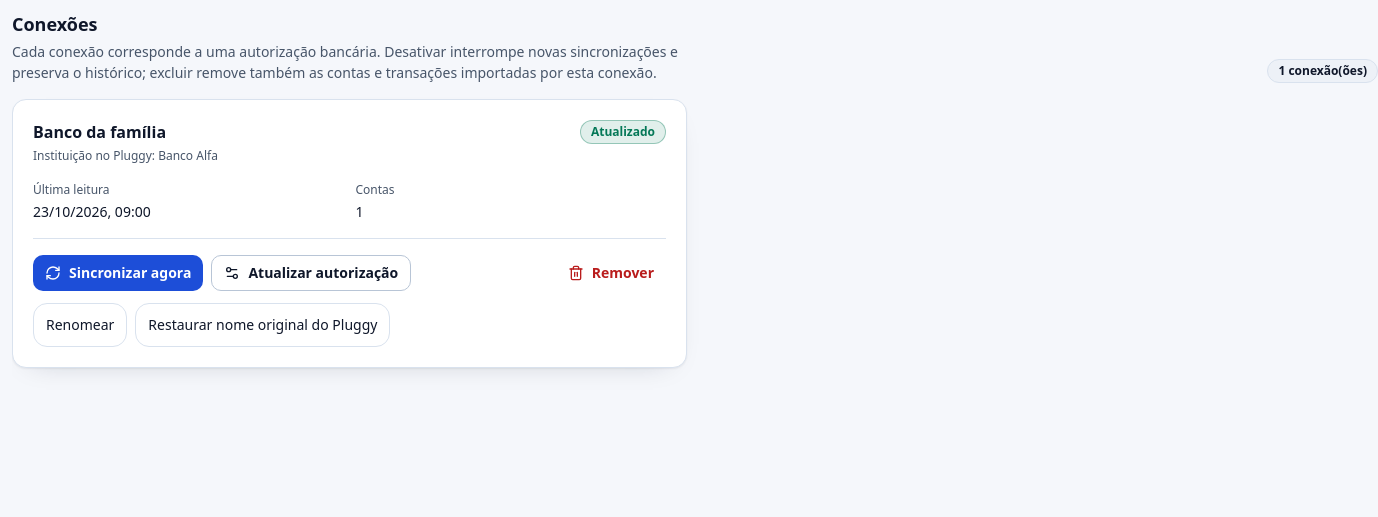
Test case: remoção de conexão › renomeia e restaura o item preservando a instituição original
This screenshot has width=1378, height=517.
Check: the text "Instituição no Pluggy: Banco Alfa" is shown, box [33,147,218,165]
Click the button "Renomear" at (80, 325), box [33,303,127,347]
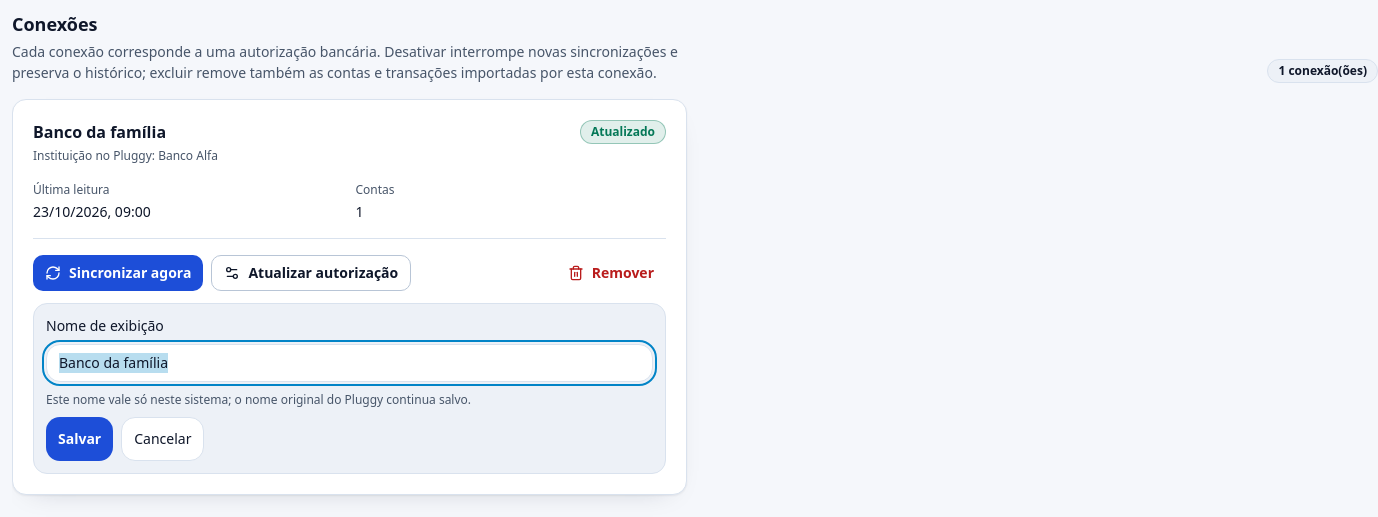
Replace the text in the field labelled "Nome de exibição" with "Banco novo" at (350, 363), box [46,344,653,382]
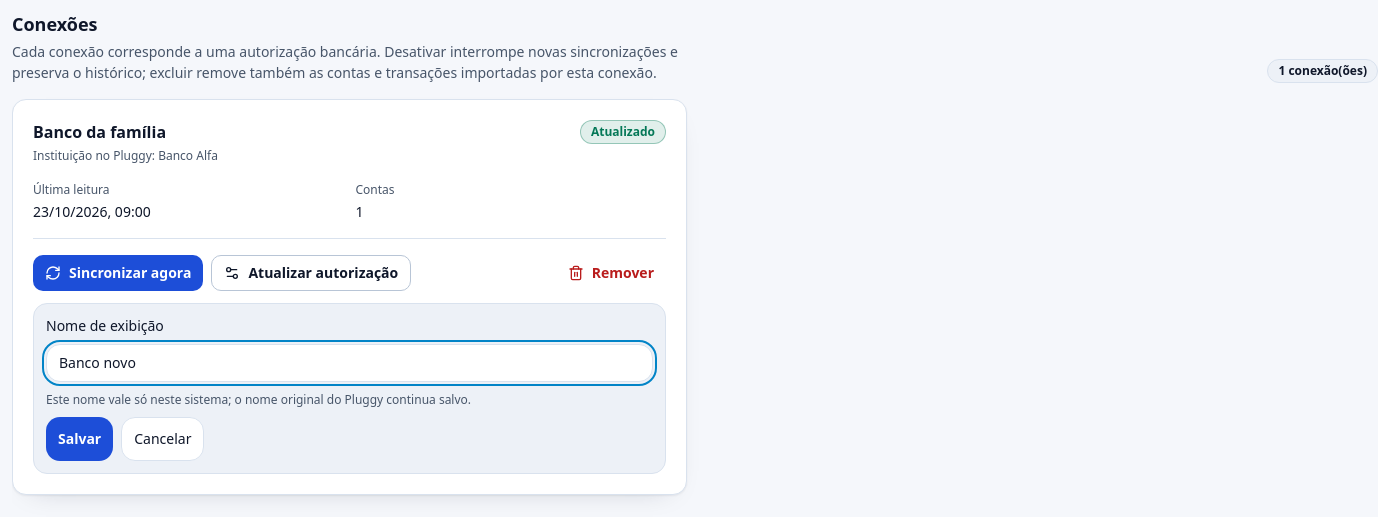
Click the button "Salvar" at (80, 440), box [46,418,113,462]
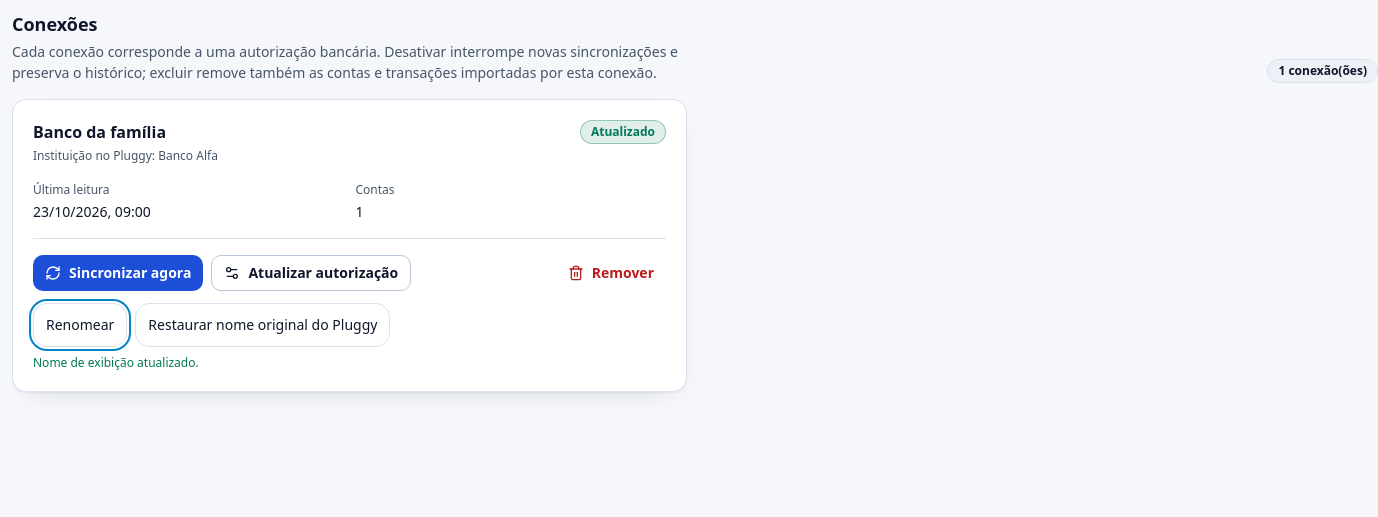
Check: the text "Nome de exibição atualizado." is shown, box [33,354,199,371]
Click the button "Restaurar nome original do Pluggy" at (263, 325), box [135,303,390,347]
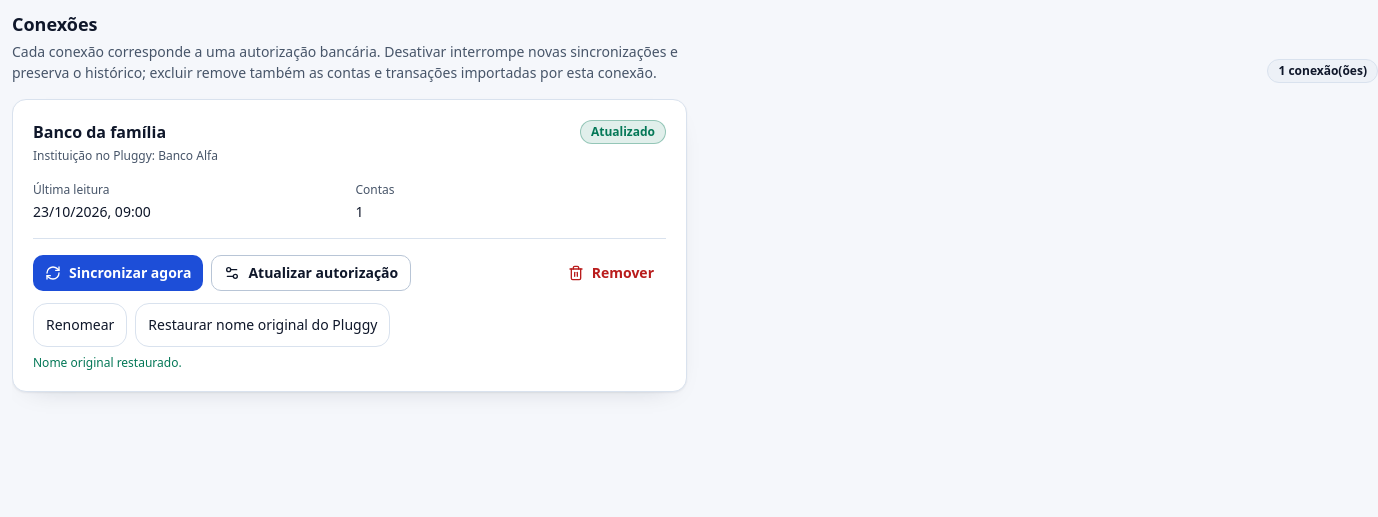
Check: the text "Nome original restaurado." is shown, box [33,354,182,371]
